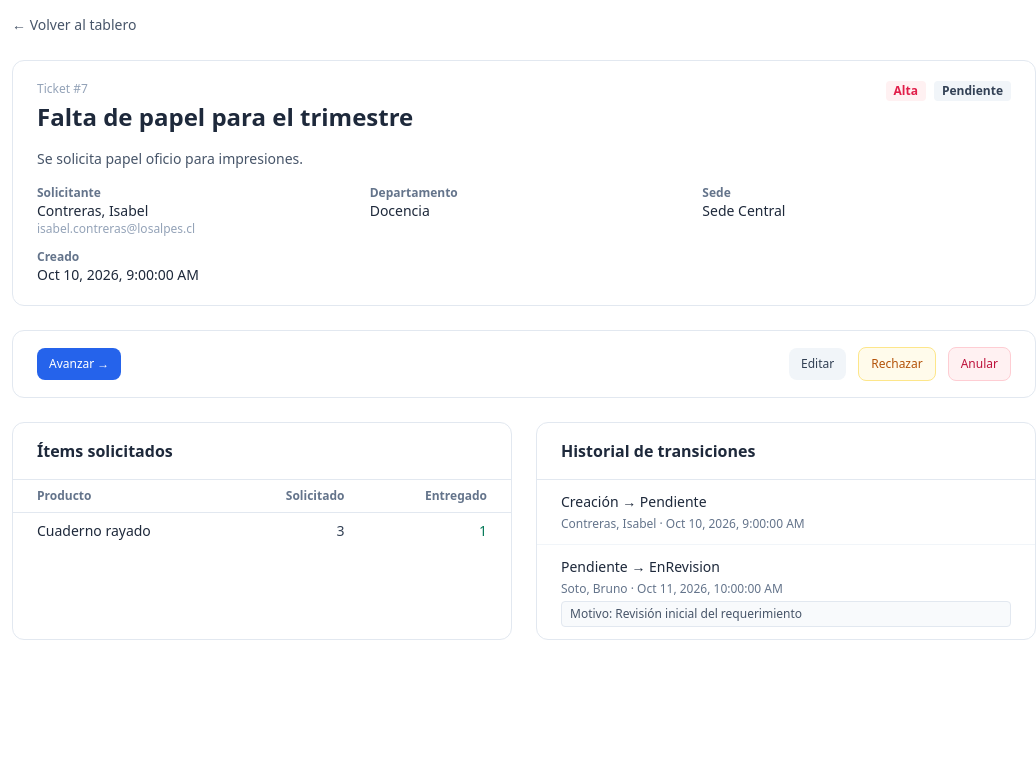
it: TicketDetalleComponent › transiciones del flujo lineal › muestra el 409 del servidor en un role="alert" y reconsulta la verdad del backend
The width and height of the screenshot is (1036, 780).
What coordinates should you click on to do the following:
click the button "Avanzar →"
I would click on:
 (79, 364)
Its box is [37,348,121,380].
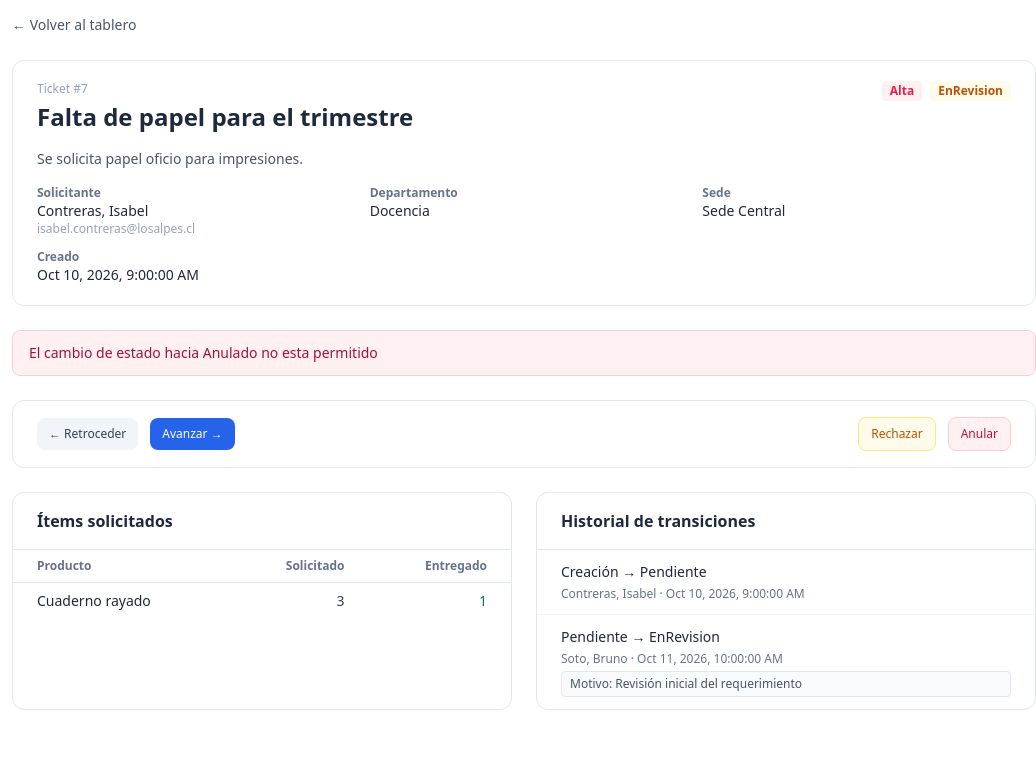
Result: the message "El cambio de estado hacia Anulado no esta permitido" is shown at [12,330,1035,376]
